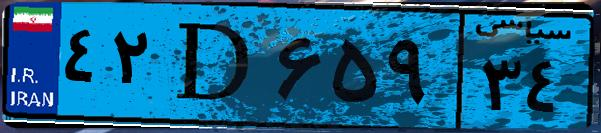2: (110, 28, 158, 98)
3: (475, 38, 525, 113)
4: (57, 26, 110, 100), (525, 38, 570, 115)
5: (330, 28, 385, 110)
6: (270, 28, 330, 110)
9: (385, 28, 445, 110)
D: (158, 12, 270, 120)
